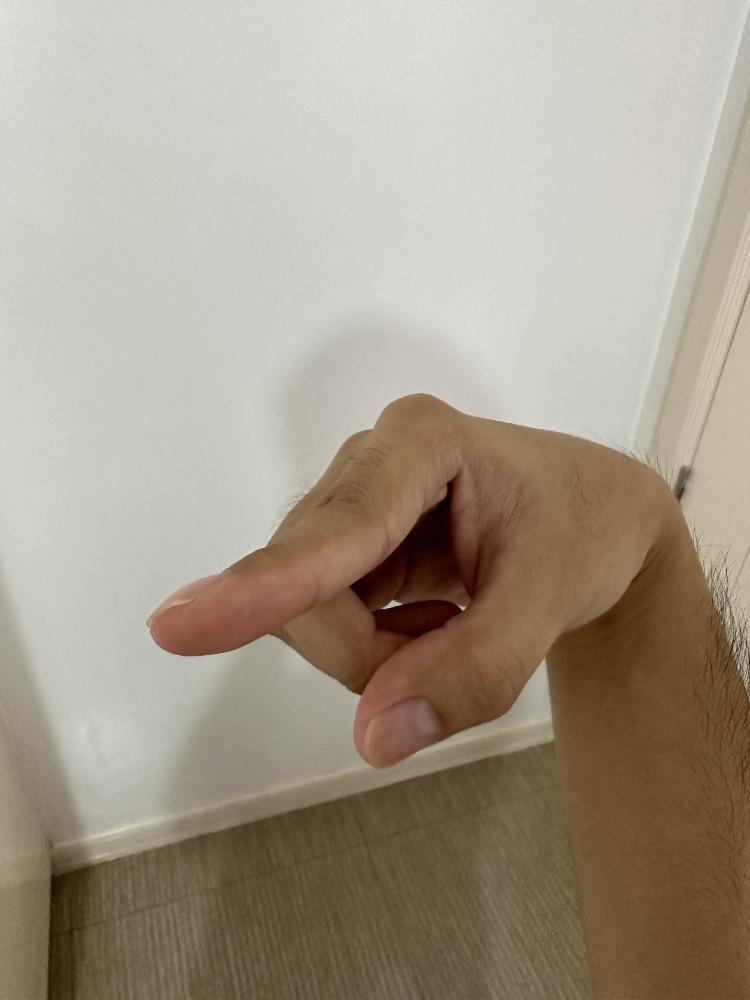z: (141, 388, 668, 769)
